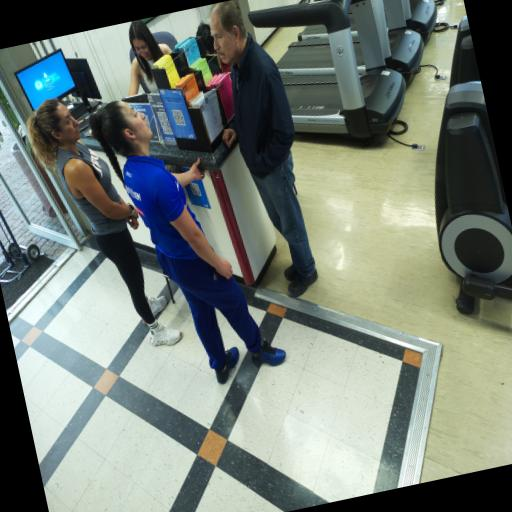person: (90, 102, 285, 383), (27, 99, 181, 345), (210, 0, 318, 296), (129, 20, 171, 95), (197, 22, 216, 55), (196, 22, 215, 55)
